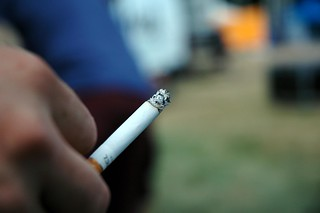cigarette: (84, 86, 174, 176)
